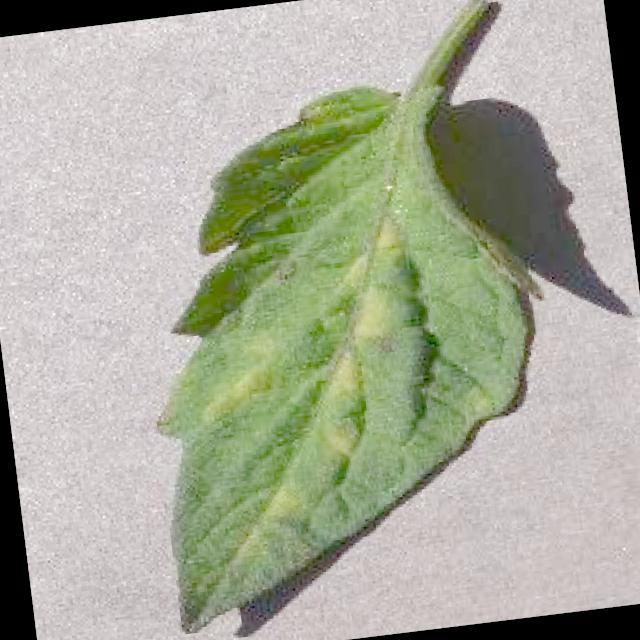Tomato mold leaf: (113, 67, 574, 640)
